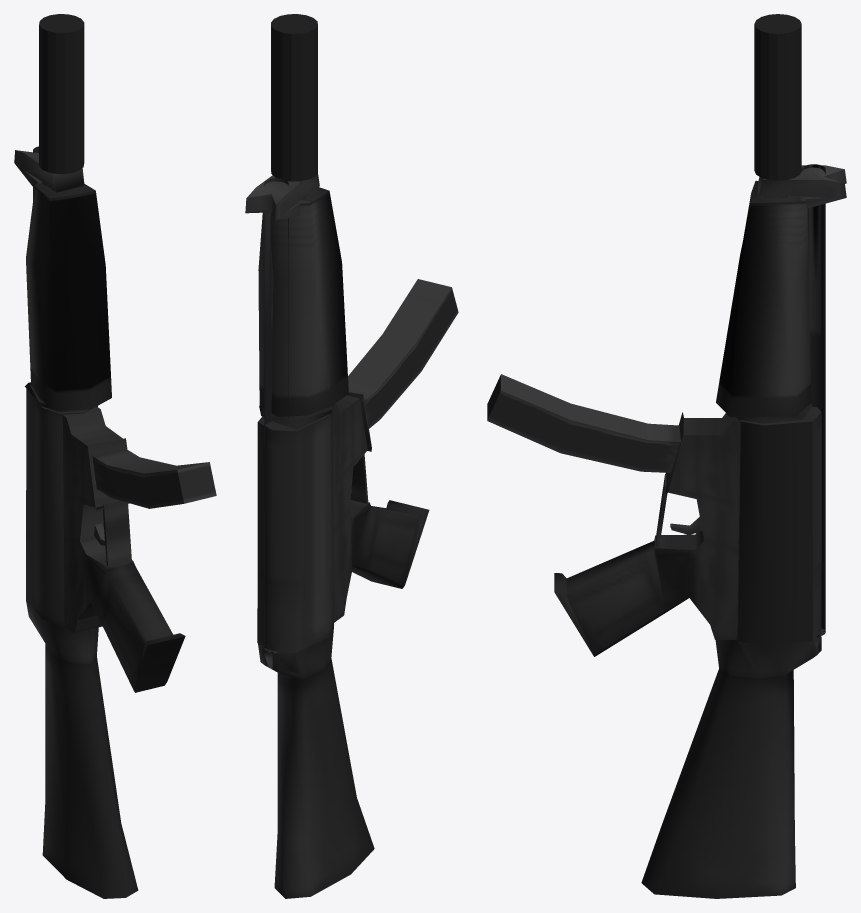
3 views of the same model, side by side, from view 1: azimuth 30°, elevation 25°; view 2: azimuth 150°, elevation 25°; view 3: azimuth 270°, elevation 25° (orthographic). The views are drawn at different scales.
Visible parts, largest first — view 1: node_9dd0f6f6_31ed_4a20_9721_c0e673ea2e27_mesh0; view 2: node_9dd0f6f6_31ed_4a20_9721_c0e673ea2e27_mesh0; view 3: node_9dd0f6f6_31ed_4a20_9721_c0e673ea2e27_mesh0.
Part boxes in pixels (x1,y1,x2,y2): node_9dd0f6f6_31ed_4a20_9721_c0e673ea2e27_mesh0: [14, 14, 216, 898]; node_9dd0f6f6_31ed_4a20_9721_c0e673ea2e27_mesh0: [245, 14, 458, 898]; node_9dd0f6f6_31ed_4a20_9721_c0e673ea2e27_mesh0: [487, 14, 846, 898].
Bounding box in the file's own units: 0.0308 × 0.4231 × 0.1596.
